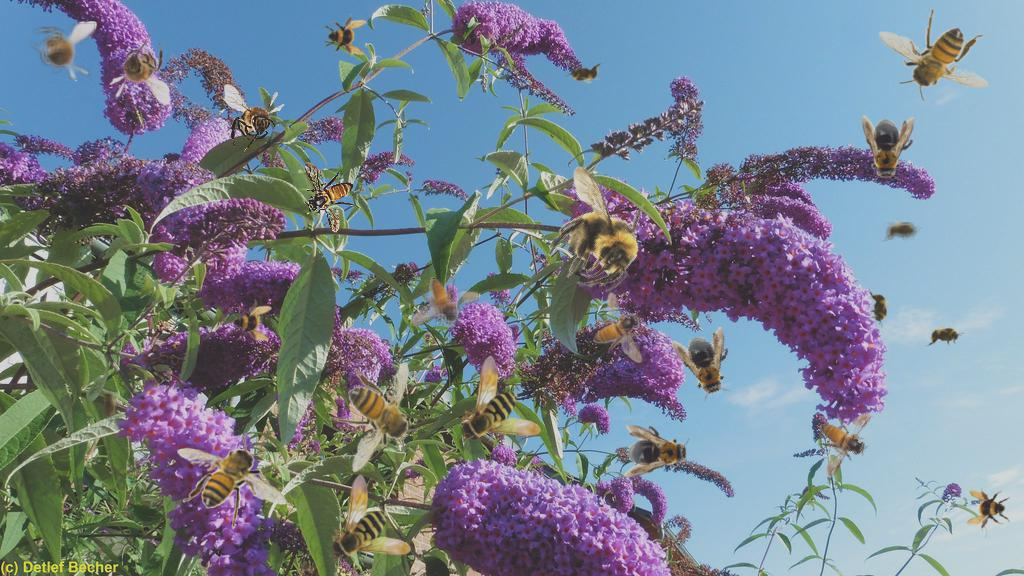Bee: (516, 149, 673, 308), (329, 362, 423, 473), (878, 8, 989, 102), (177, 434, 288, 528), (801, 397, 889, 480), (329, 474, 411, 562), (459, 355, 541, 443), (671, 324, 743, 406), (27, 21, 97, 82), (109, 35, 170, 105), (224, 84, 285, 154), (304, 162, 354, 233), (410, 277, 481, 327), (593, 292, 643, 363), (862, 115, 914, 183), (624, 425, 692, 477), (966, 488, 1010, 532), (228, 299, 272, 343), (323, 13, 367, 57), (882, 220, 922, 242), (868, 288, 890, 328), (564, 62, 604, 84), (97, 385, 119, 425), (925, 325, 965, 347)
